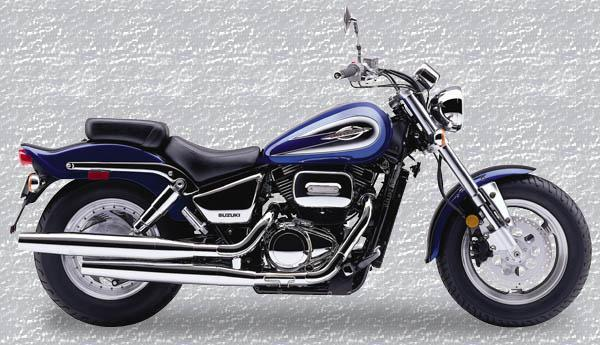Motorcycle: (10, 5, 596, 341)
